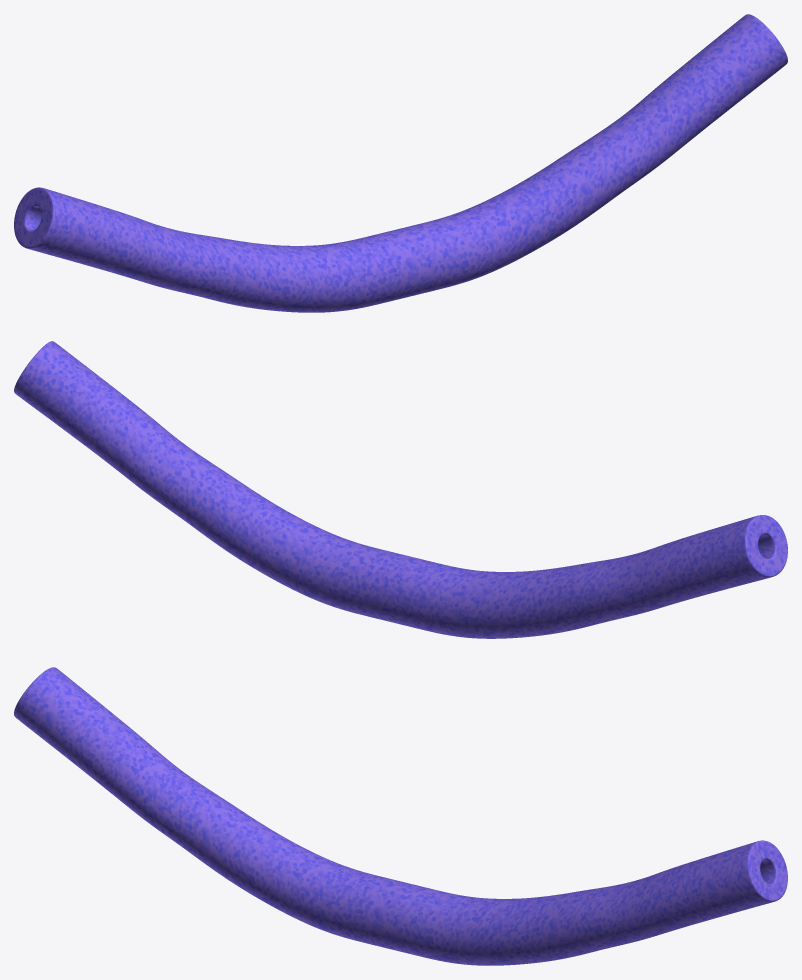
Rendered from PoolNoodle_Textured_01.fbx.
The picture shows the model from 3 angles, top to bottom: view 1: azimuth 30°, elevation 25°; view 2: azimuth 150°, elevation 25°; view 3: azimuth 330°, elevation 25°; orthographic projection.
Parts seen in each view (by area): view 1: Pool_Noodle; view 2: Pool_Noodle; view 3: Pool_Noodle.
Part boxes in pixels (left/top/right/bottom): Pool_Noodle: left=14, top=14, right=787, bottom=312; Pool_Noodle: left=14, top=341, right=787, bottom=638; Pool_Noodle: left=14, top=667, right=787, bottom=965.
Bounding box in the file's own units: 25.17 × 6.04 × 2.05.
1 material, 1 textured.
